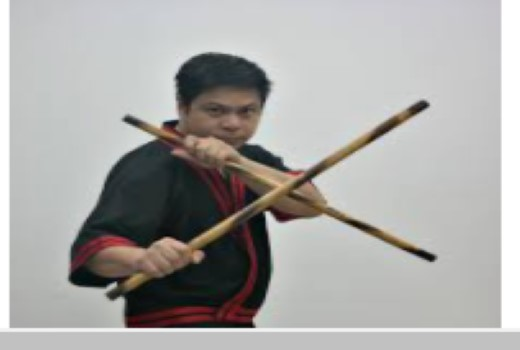baston_e: (140, 122, 420, 258), (114, 142, 355, 300)
baston_v: (118, 109, 134, 124), (102, 289, 117, 303), (418, 94, 432, 108), (428, 250, 439, 264)
